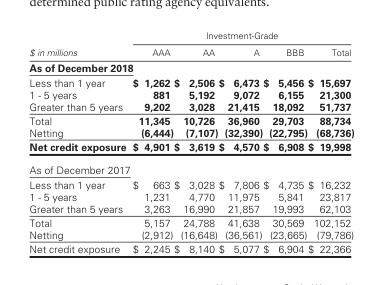table: (28, 29, 353, 254)
table column: (28, 29, 128, 254), (307, 29, 353, 254), (128, 29, 173, 254), (217, 29, 262, 254), (262, 29, 307, 254), (173, 29, 217, 254)
table column header: (28, 29, 353, 59)
table projected row header: (28, 157, 353, 177), (28, 59, 353, 75)
table row: (28, 157, 353, 177), (28, 139, 353, 157), (28, 43, 353, 59), (28, 59, 353, 75), (28, 29, 353, 43), (28, 75, 353, 88), (28, 100, 353, 113), (28, 113, 353, 126), (28, 126, 353, 139), (28, 177, 353, 190), (28, 202, 353, 215), (28, 215, 353, 228), (28, 228, 353, 241), (28, 241, 353, 254), (28, 88, 353, 100), (28, 190, 353, 202)
table spanning cell: (128, 29, 353, 43), (28, 29, 128, 59)
